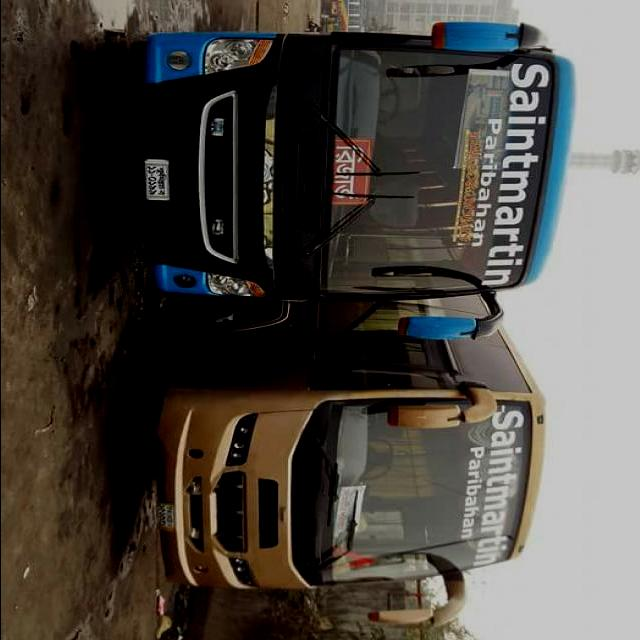bus: (138, 22, 579, 339), (149, 296, 551, 629)
